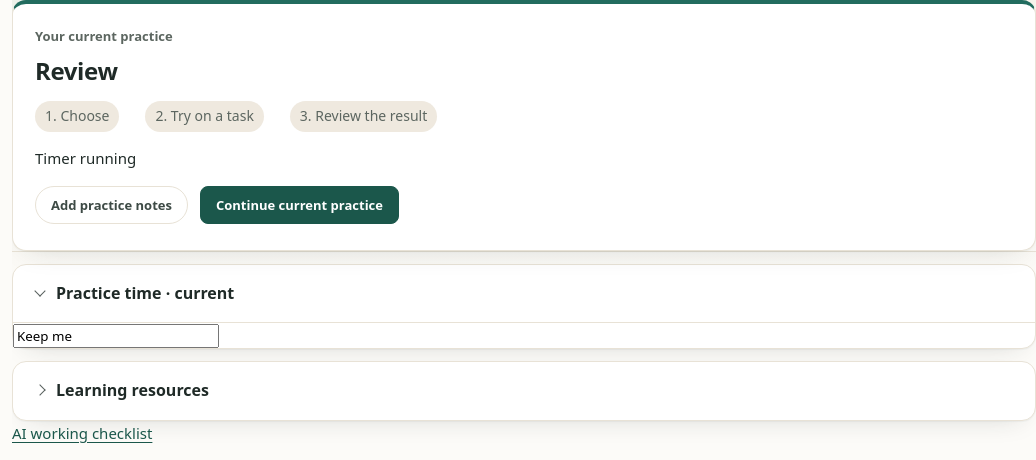
Test: keeps supporting controls mounted while changing the open panel
Expected: the field named "Timer note" is shown, x1=13 y1=324 x2=219 y2=348
What coordinates should you click on to do the following:
click the heading "Learning resources"
I would click on:
 (132, 390)
Its box is x1=56 y1=379 x2=209 y2=401.
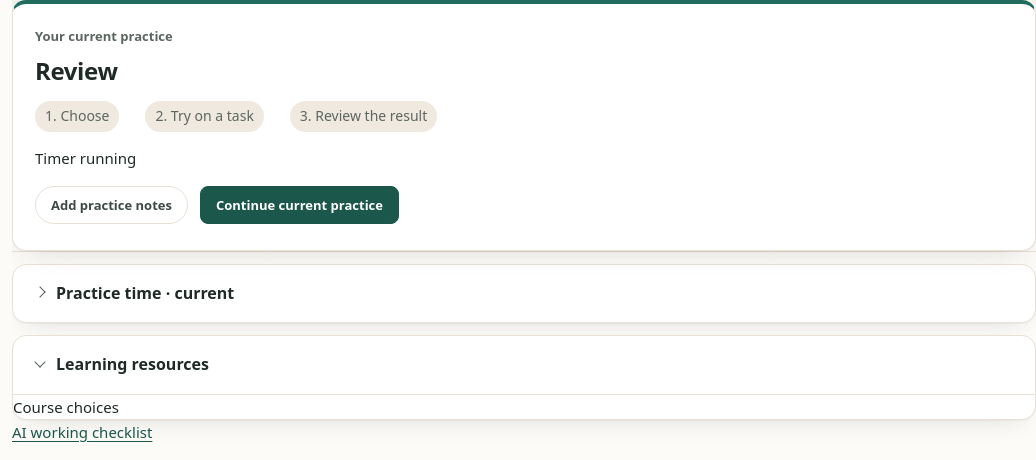
Result: the text "Course choices" is shown at x1=13 y1=397 x2=119 y2=417
What coordinates should you click on to do the following:
click the button "Continue current practice"
I would click on:
 (300, 205)
Its box is x1=200 y1=186 x2=399 y2=224.
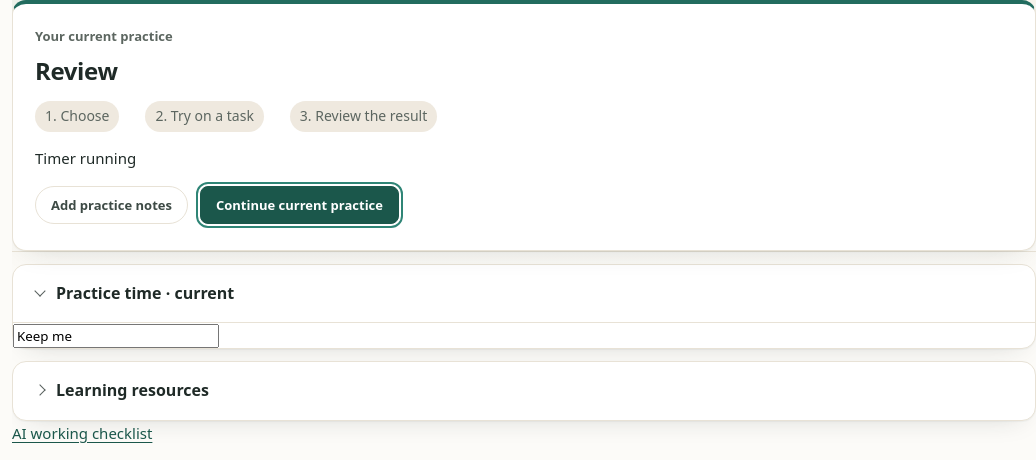
Result: the field named "Timer note" holds "Keep me" at x1=13 y1=324 x2=219 y2=348
